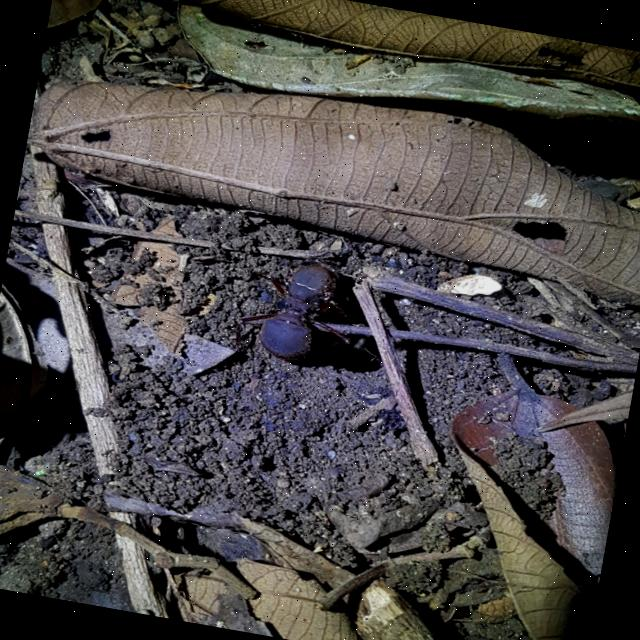Alive-Female-Dealate: (230, 252, 364, 371)
